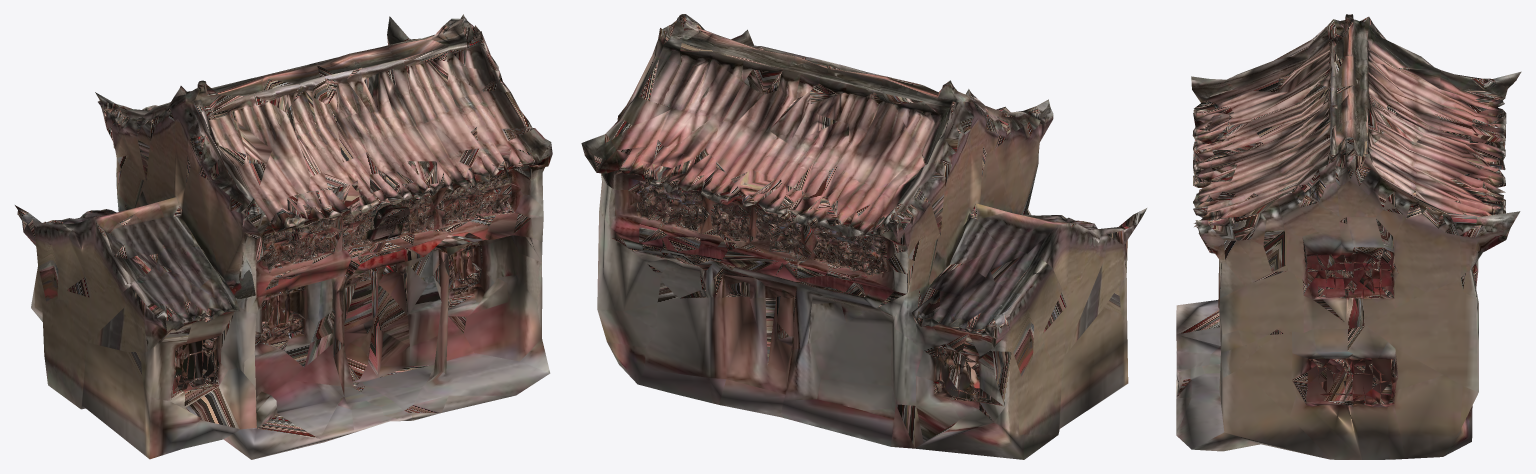
The model's file is bq_inn.mid.glb.
3 views of the same model, side by side, from view 1: azimuth 30°, elevation 25°; view 2: azimuth 150°, elevation 25°; view 3: azimuth 270°, elevation 25° (orthographic). The views are drawn at different scales.
Size of the model in its own units: 1.9 by 1.42 by 1.42.
1 material, 1 textured.
